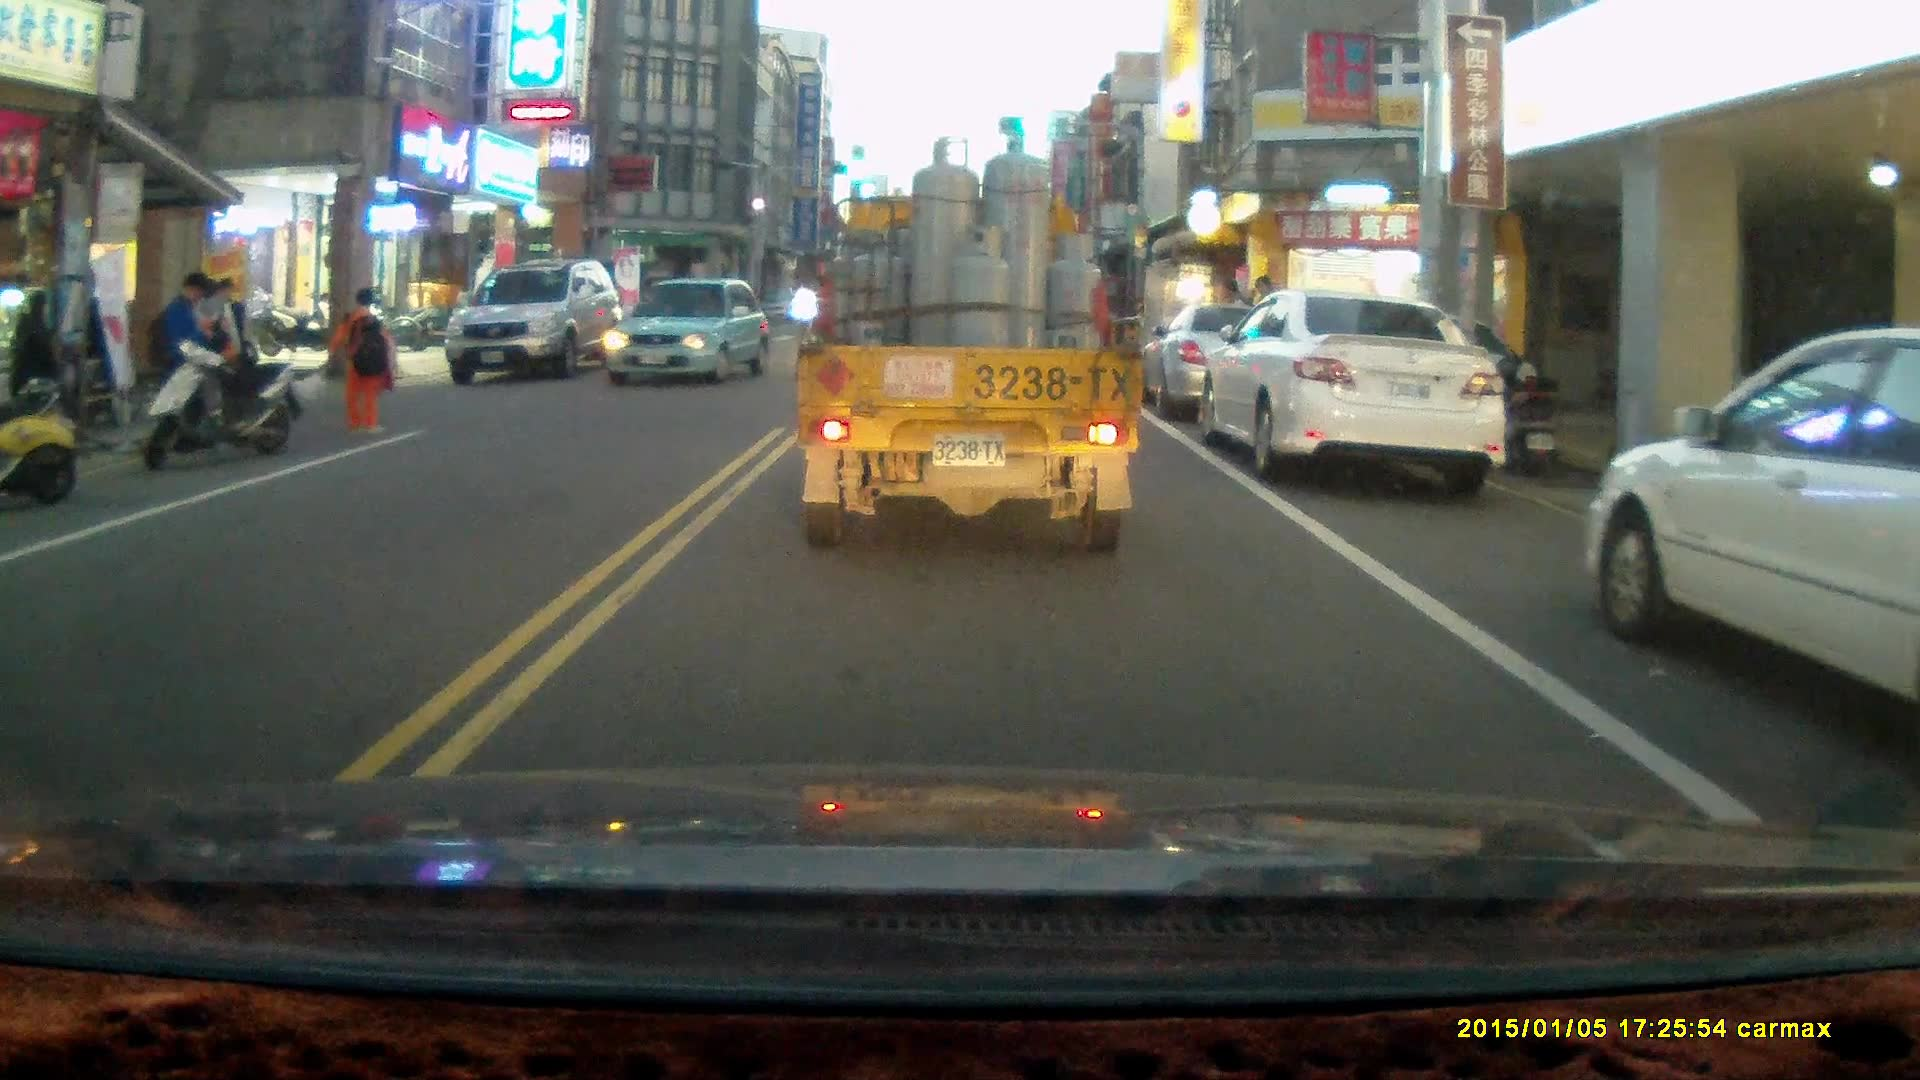pedestrian: (142, 271, 219, 450), (329, 284, 397, 433), (6, 288, 57, 448)
vehicle: (793, 128, 1150, 558), (1593, 324, 1920, 730), (1201, 286, 1507, 491), (1142, 299, 1367, 427), (449, 260, 623, 390), (601, 278, 776, 390)
